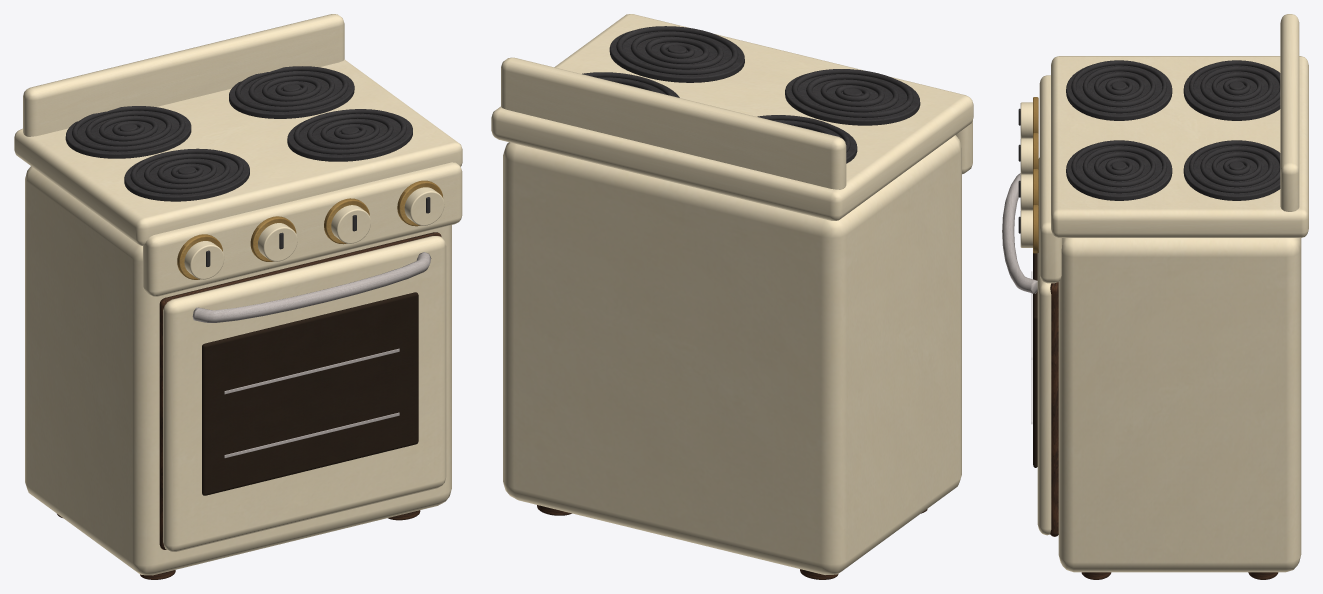
File: SM_InteriorAdditions_StoveOven.fbx
The picture shows the model from 3 angles, left to right: view 1: azimuth 30°, elevation 25°; view 2: azimuth 150°, elevation 25°; view 3: azimuth 270°, elevation 25°; orthographic projection. The views are drawn at different scales.
Visible parts, largest first — view 1: SM_InteriorAdditions_StoveOven; view 2: SM_InteriorAdditions_StoveOven; view 3: SM_InteriorAdditions_StoveOven.
Boxes of the visible parts, <box> form: SM_InteriorAdditions_StoveOven: <box>14,14,462,579</box>; SM_InteriorAdditions_StoveOven: <box>491,14,973,579</box>; SM_InteriorAdditions_StoveOven: <box>1002,14,1308,579</box>.
Size of what is drawn, in the model's own units: 97.69 by 79.19 by 121.
